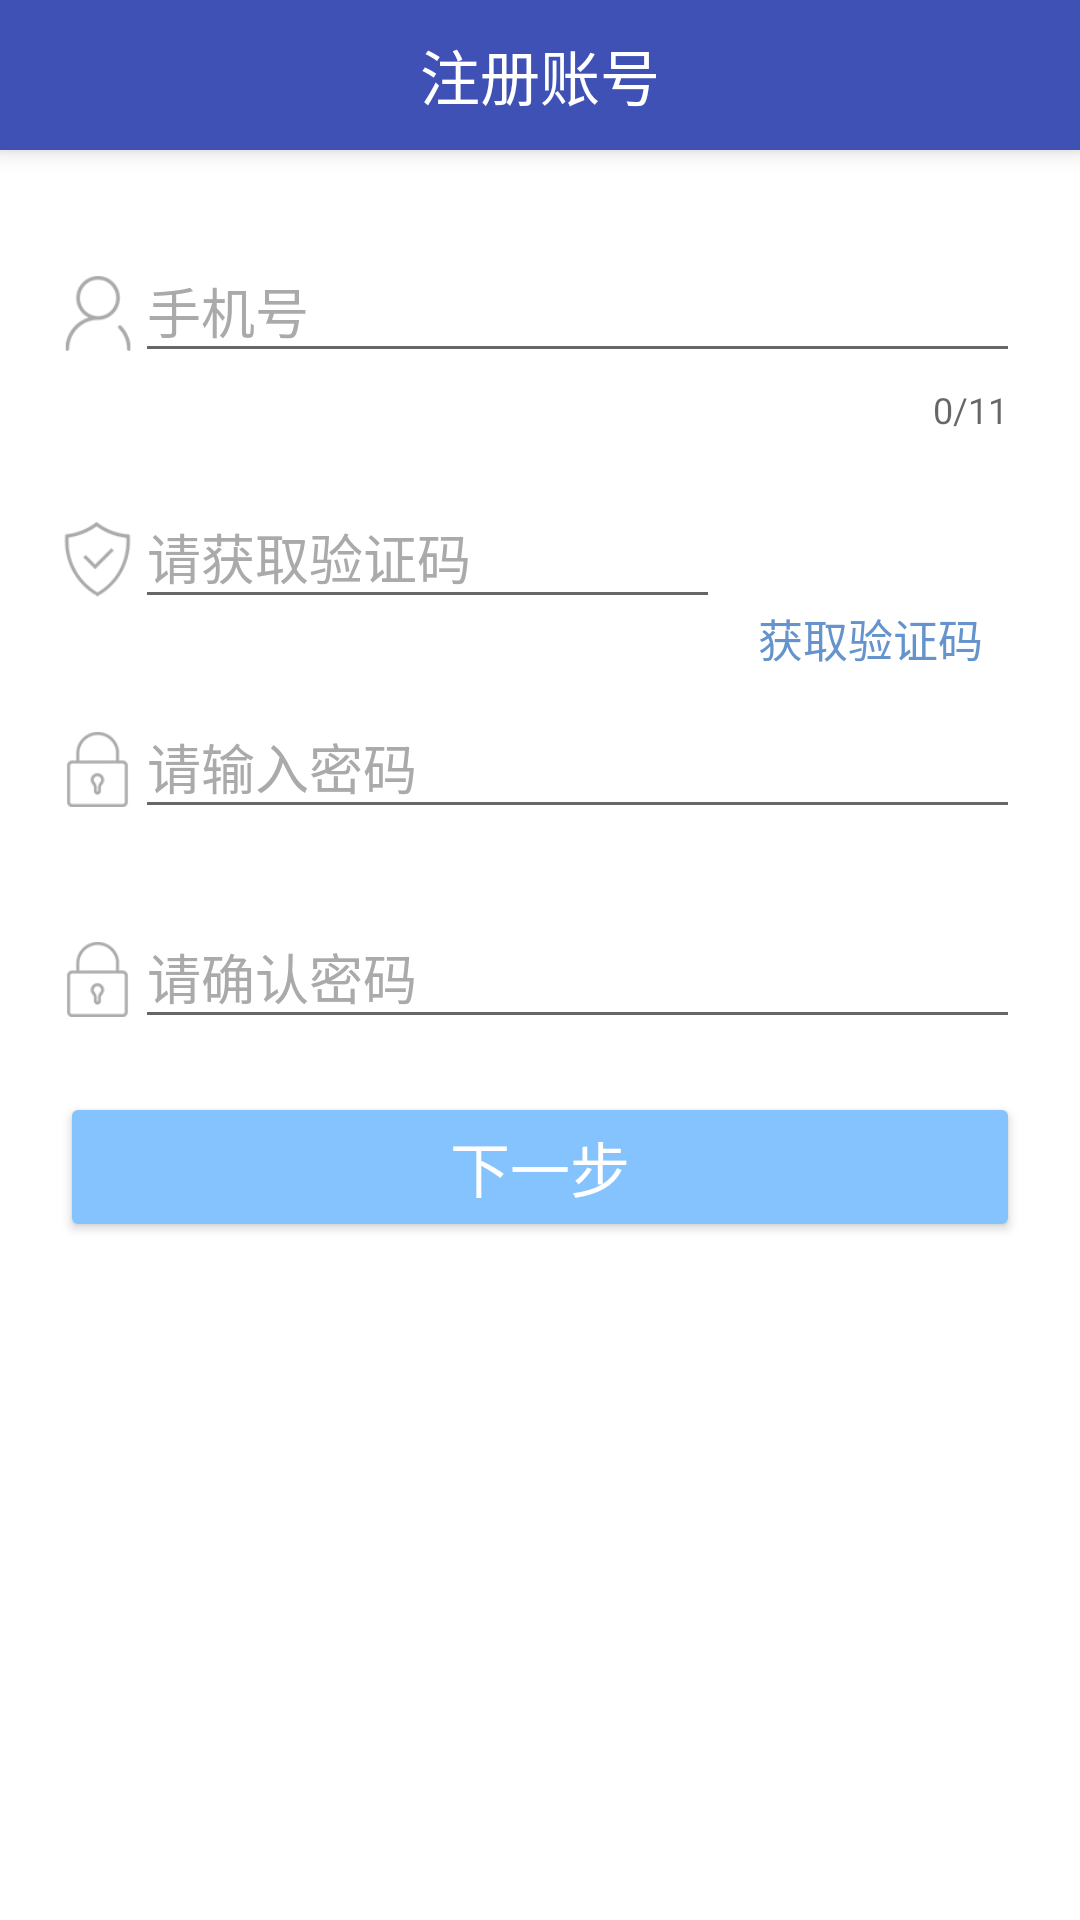

Point at icon controls on the screen. Image size 1080 × 1920, points as point (x, y).
code: point (97, 559)
password: point (97, 769), point (97, 979)
user: point (98, 313)
